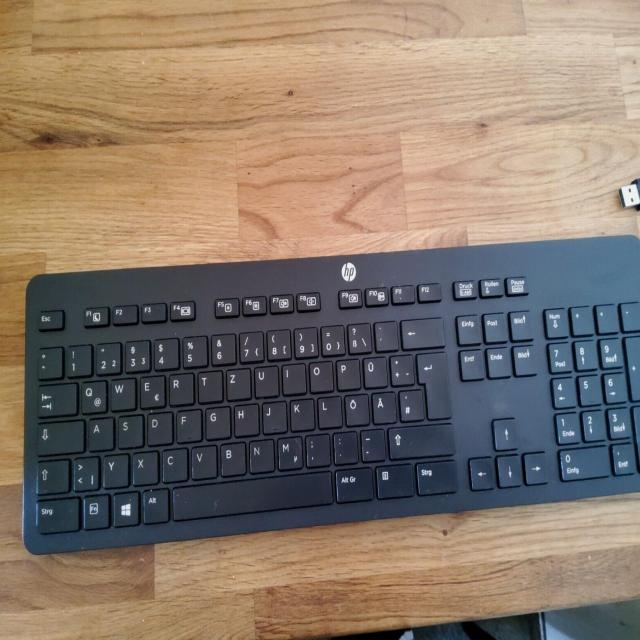0: (319, 321, 344, 355)
1: (64, 342, 91, 376)
2: (94, 339, 120, 373)
3: (123, 336, 149, 371)
4: (151, 335, 178, 368)
5: (180, 333, 207, 366)
6: (209, 331, 235, 364)
7: (237, 328, 263, 361)
8: (265, 326, 290, 360)
9: (292, 323, 317, 357)
a: (86, 414, 113, 450)
accent: (372, 318, 397, 350)
ae: (370, 389, 396, 423)
alt-left: (140, 486, 168, 522)
altgr-right: (332, 464, 372, 501)
b: (218, 439, 245, 474)
c: (160, 445, 187, 481)
caret: (35, 344, 62, 378)
comma: (303, 431, 329, 466)
d: (145, 409, 172, 444)
del: (399, 314, 443, 347)
e: (138, 372, 165, 407)
enter: (415, 348, 449, 416)
f: (174, 406, 201, 441)
g: (203, 404, 230, 438)
h: (232, 401, 258, 435)
hash: (397, 386, 423, 420)
i: (280, 361, 305, 394)
j: (260, 398, 286, 433)
k: (288, 396, 314, 431)
keyboard: (20, 231, 640, 557)
l: (315, 393, 341, 427)
less: (71, 453, 98, 489)
m: (275, 433, 302, 469)
minus: (358, 426, 384, 460)
n: (247, 437, 273, 472)
o: (306, 358, 332, 391)
oe: (343, 391, 369, 425)
p: (334, 356, 359, 389)
plus: (388, 351, 412, 384)
point: (331, 429, 357, 463)
q: (78, 378, 106, 413)
r: (166, 371, 193, 405)
s: (115, 412, 143, 447)
shift-left: (34, 457, 68, 493)
shift-lock: (34, 418, 83, 453)
shift-right: (386, 421, 453, 457)
space: (170, 470, 331, 518)
ss: (345, 319, 370, 352)
strg-left: (33, 495, 78, 531)
strg-right: (413, 457, 458, 493)
t: (196, 368, 222, 402)
tab: (35, 380, 76, 415)
u: (252, 363, 278, 397)
ue: (361, 353, 387, 387)
v: (189, 442, 216, 478)
w: (108, 375, 135, 410)
x: (131, 448, 157, 484)
y: (101, 451, 128, 487)
z: (224, 366, 250, 400)
